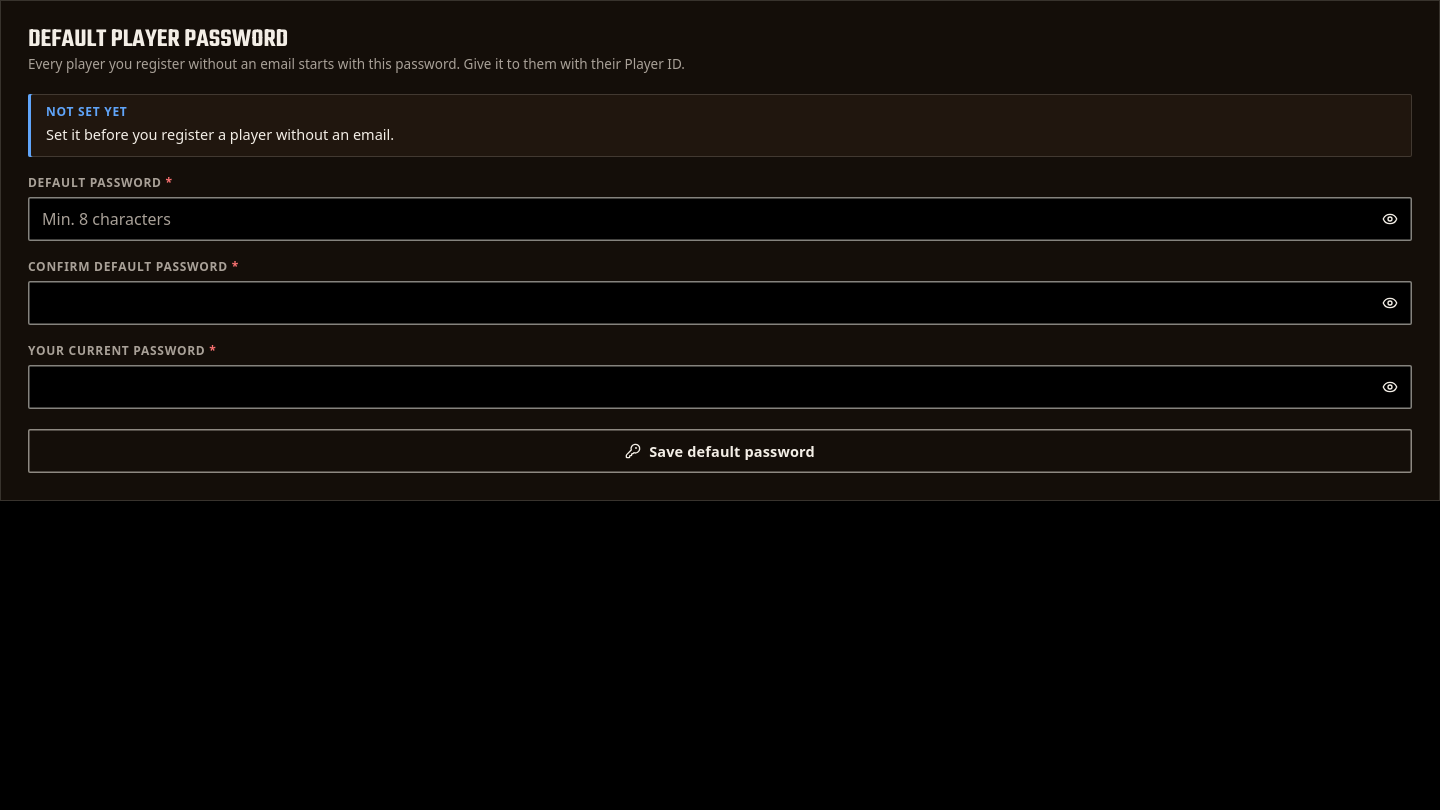
Test: PlayerDefaultPasswordSection › asks for one when none is set, and saves it with the coach password
The image size is (1440, 810).
Expected: the text "Not set yet" is shown, [46,103,128,120]
Step 1. Type "Shivaji2026" into the password field labelled "Default password *" → (720, 219), box [28,197,1412,241]
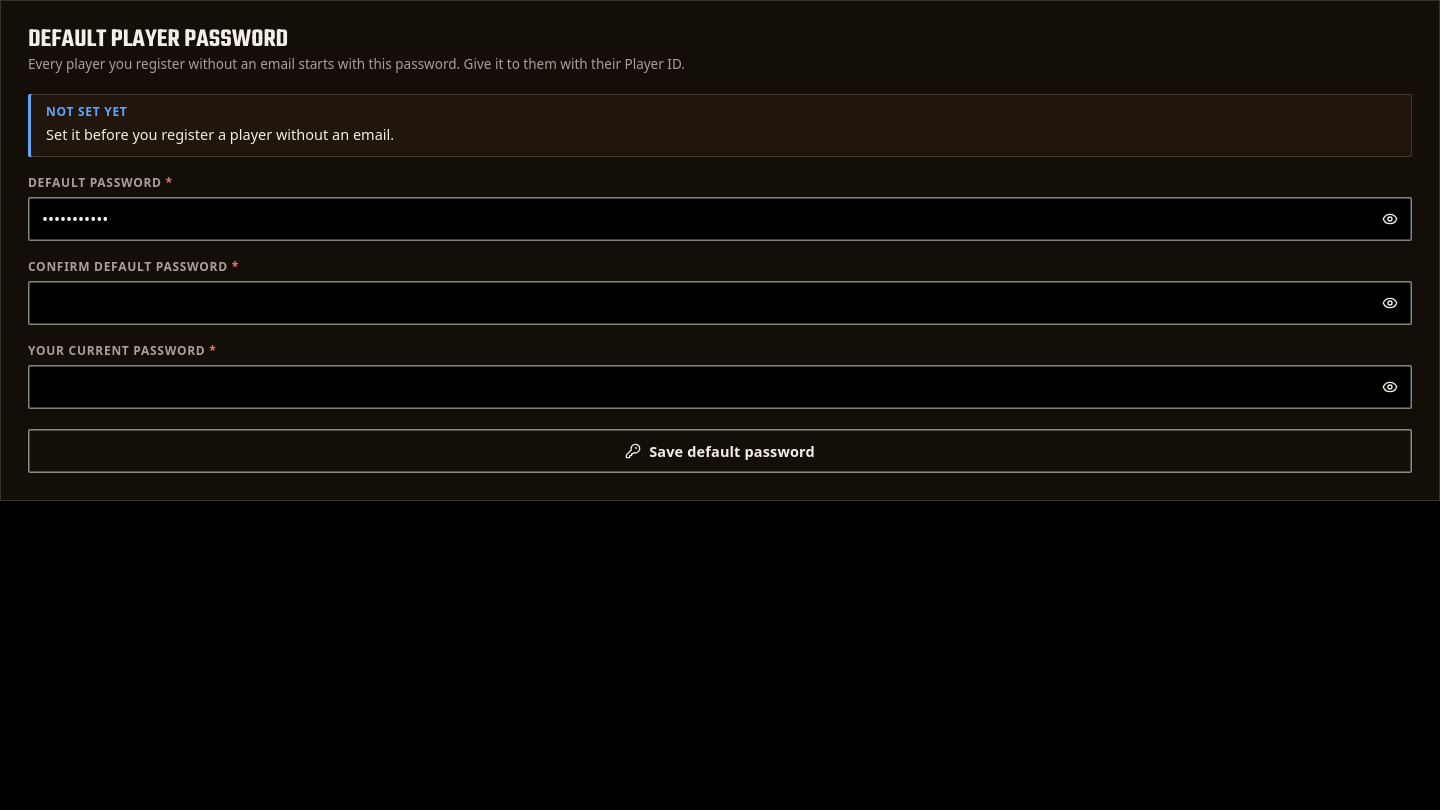
Step 2. Type "Shivaji2026" into the password field labelled "Confirm default password *" → (720, 303), box [28,281,1412,325]
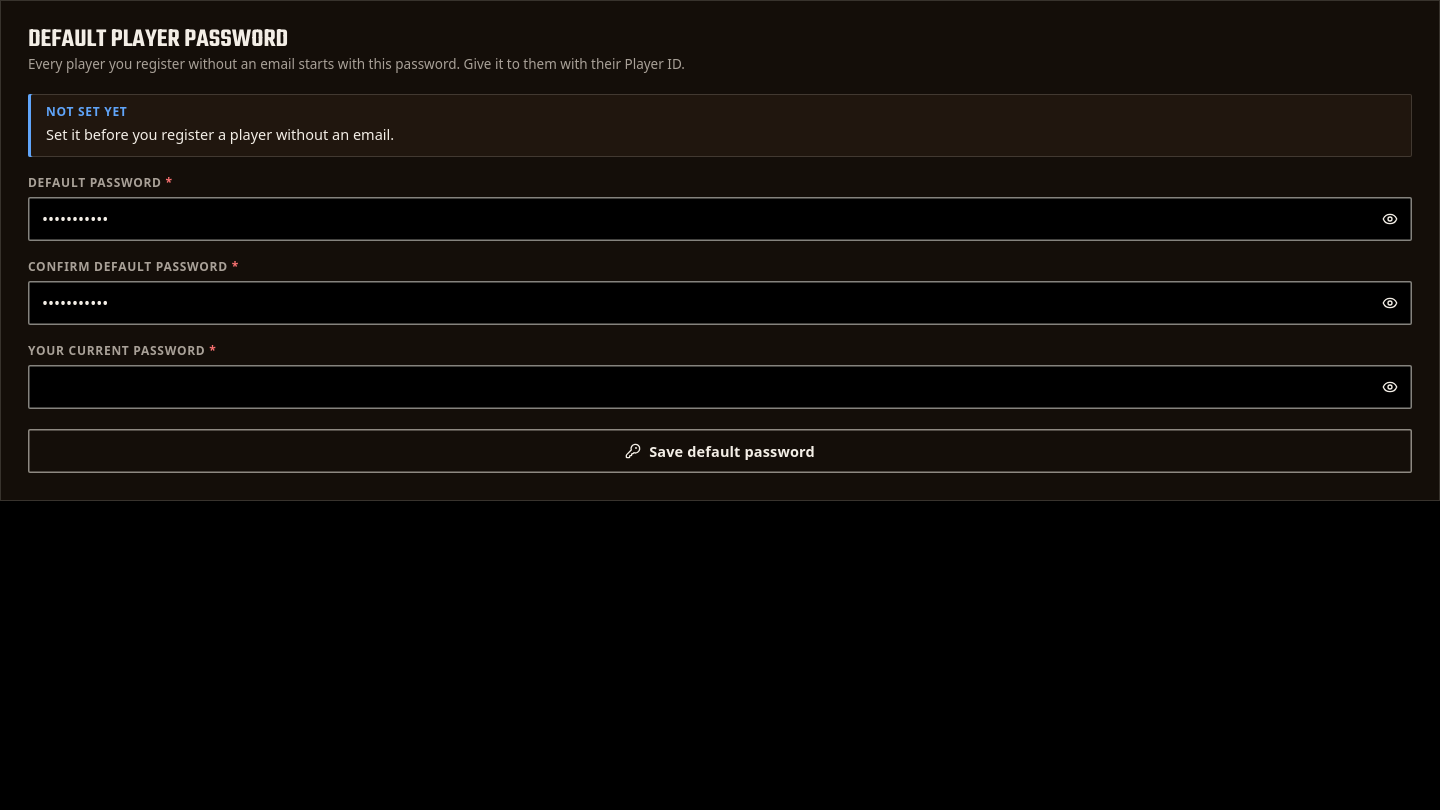
Step 3. Type "CoachPass1" into the password field labelled "Your current password *" → (720, 387), box [28,365,1412,409]
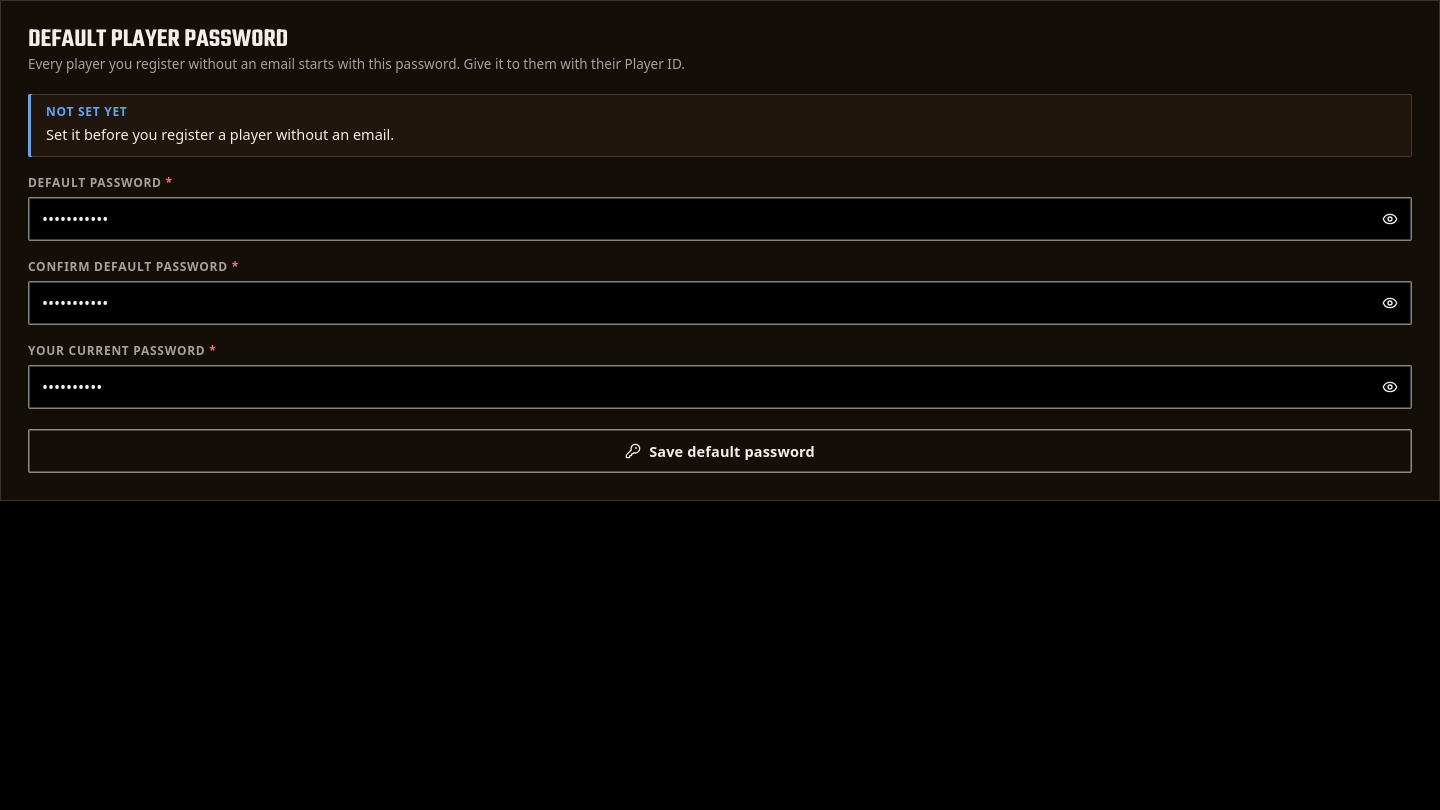
Step 4. Click the button named "Save default password" → (720, 451), box [28,429,1412,473]
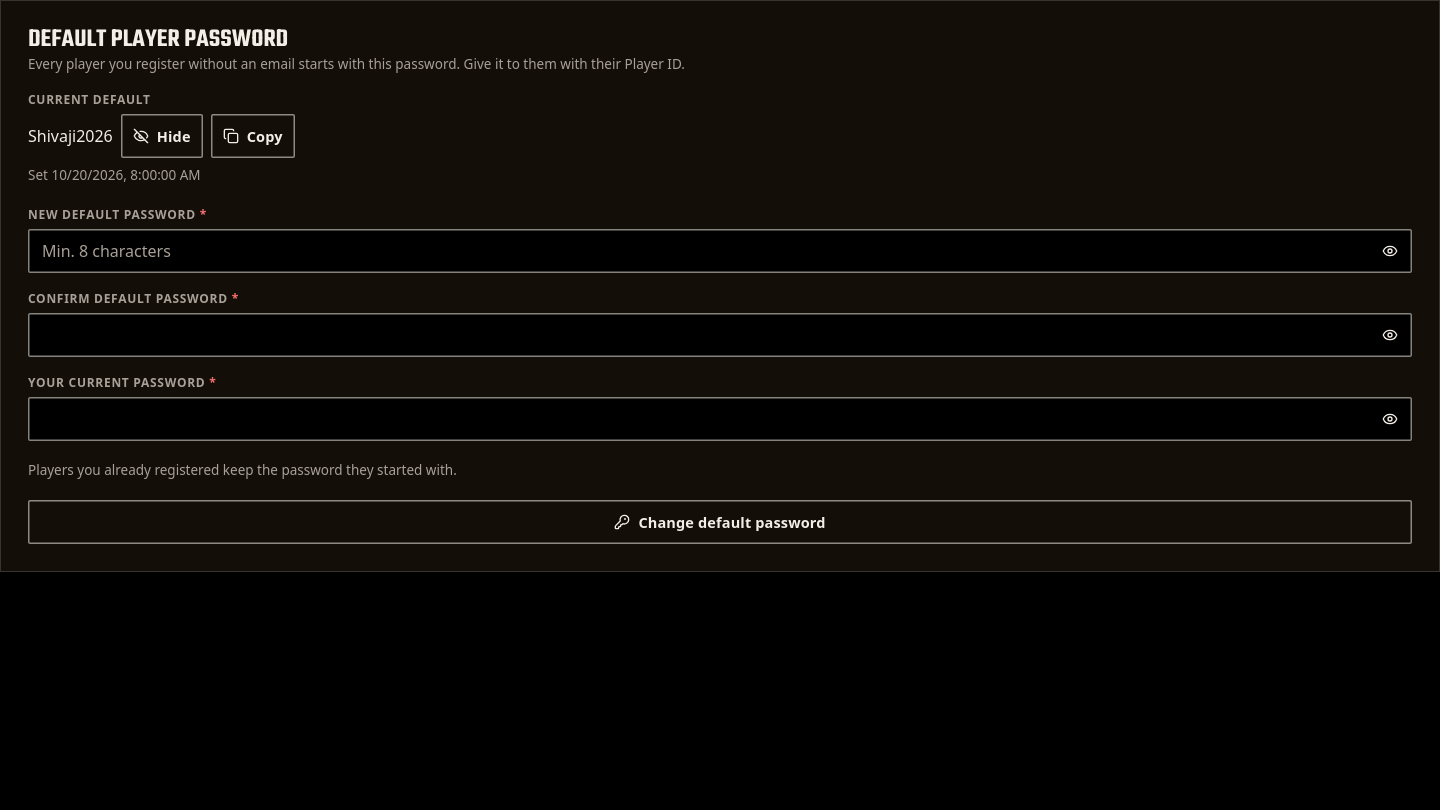
Now the text with test id "player-default-password" reads "Shivaji2026", box [28,125,113,147]
